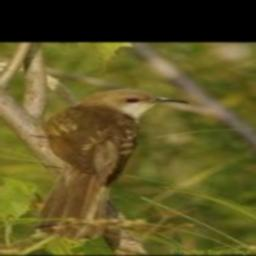Cuckoo: (30, 88, 188, 240)
